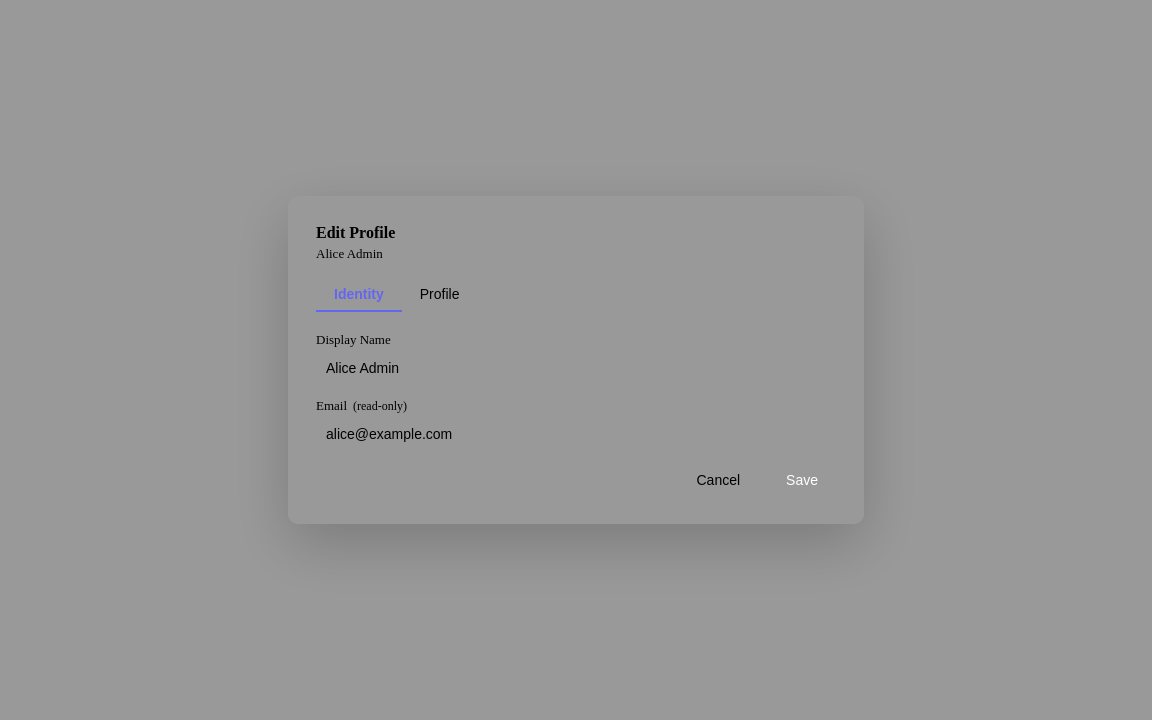
Scenario: EditProfileModal — two-tab layout › clicking Identity tab after Profile tab shows identity fields again (Req 2.2)
Click the tab "Profile" at (440, 295), box [402,278,478,312]
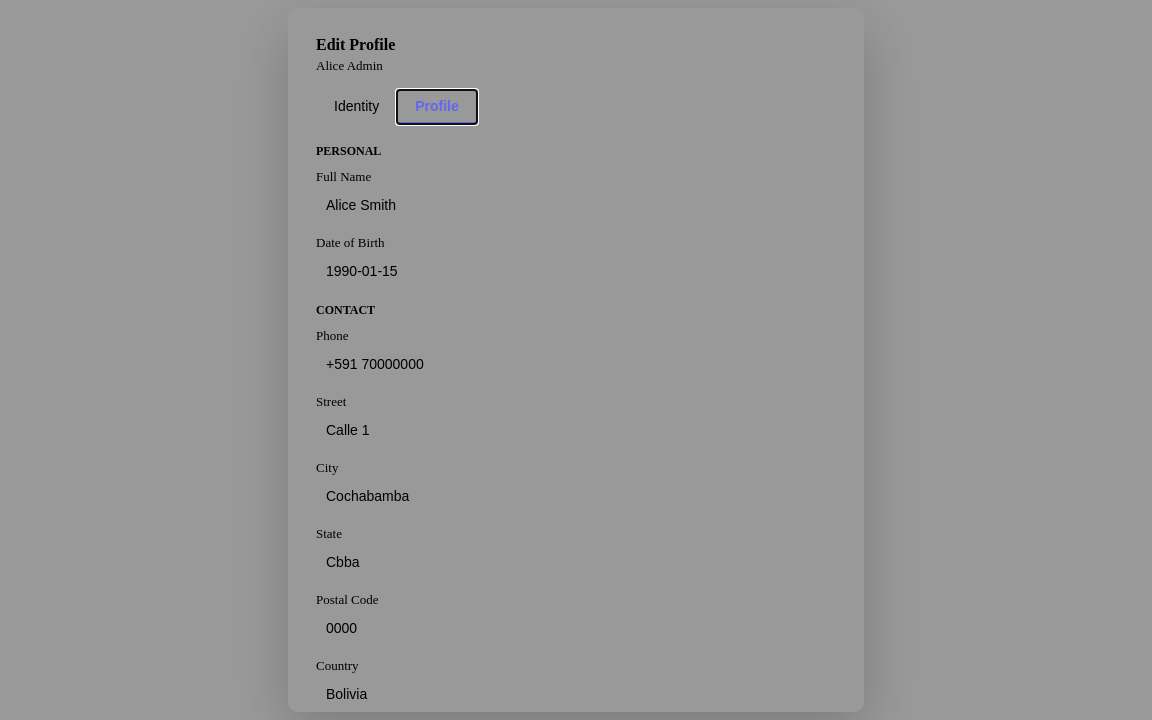
Click the tab "Identity" at (357, 107), box [316,90,397,124]
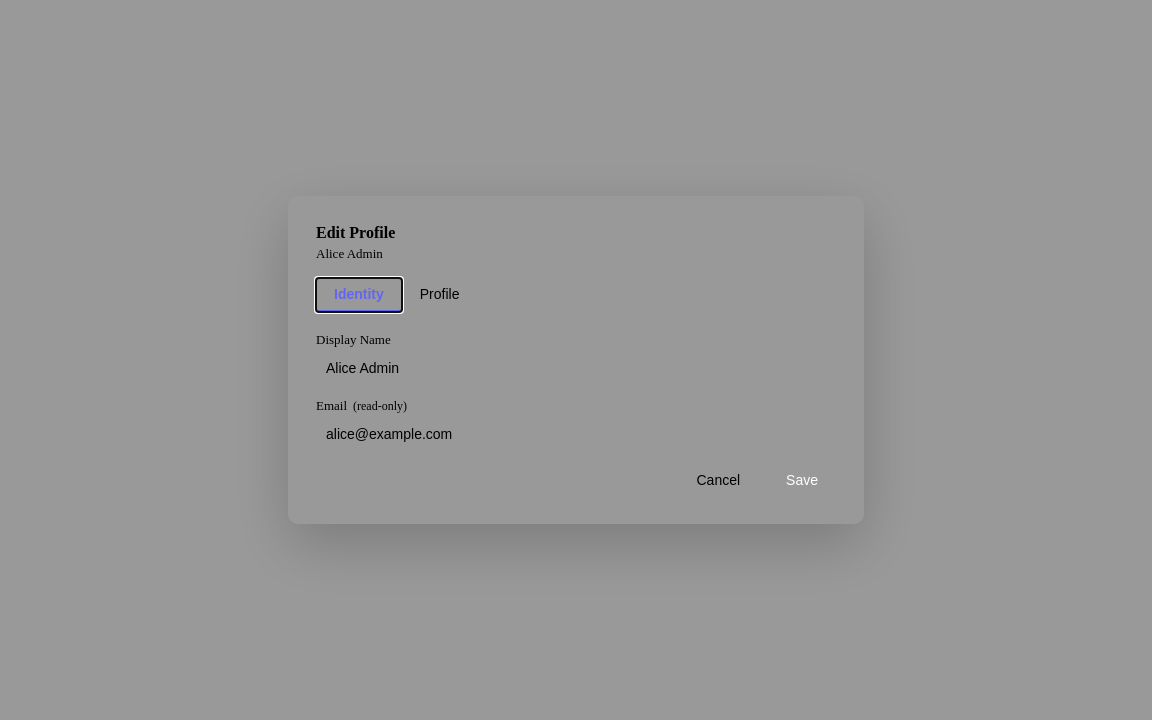
Expected: the field labelled "Display Name" is shown, [316,352,836,384]
